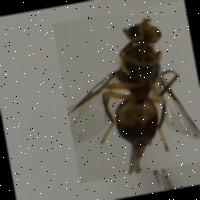Oriental-fruit-fly: (52, 0, 200, 183)
